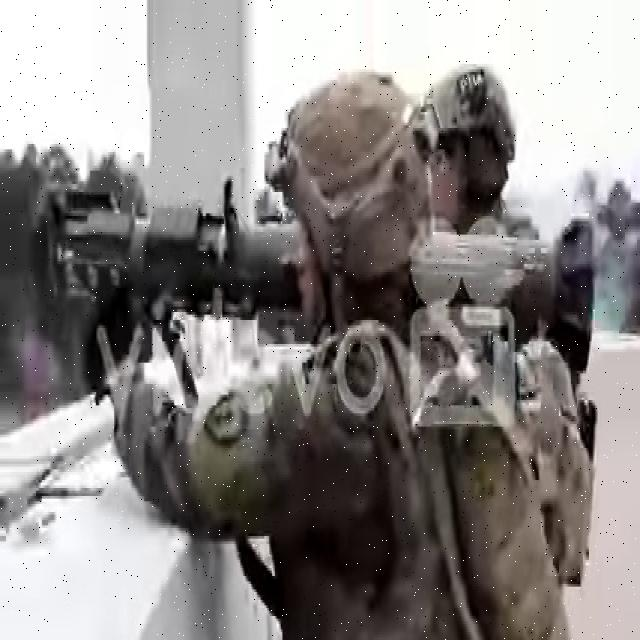bazooka: (40, 158, 605, 384)
